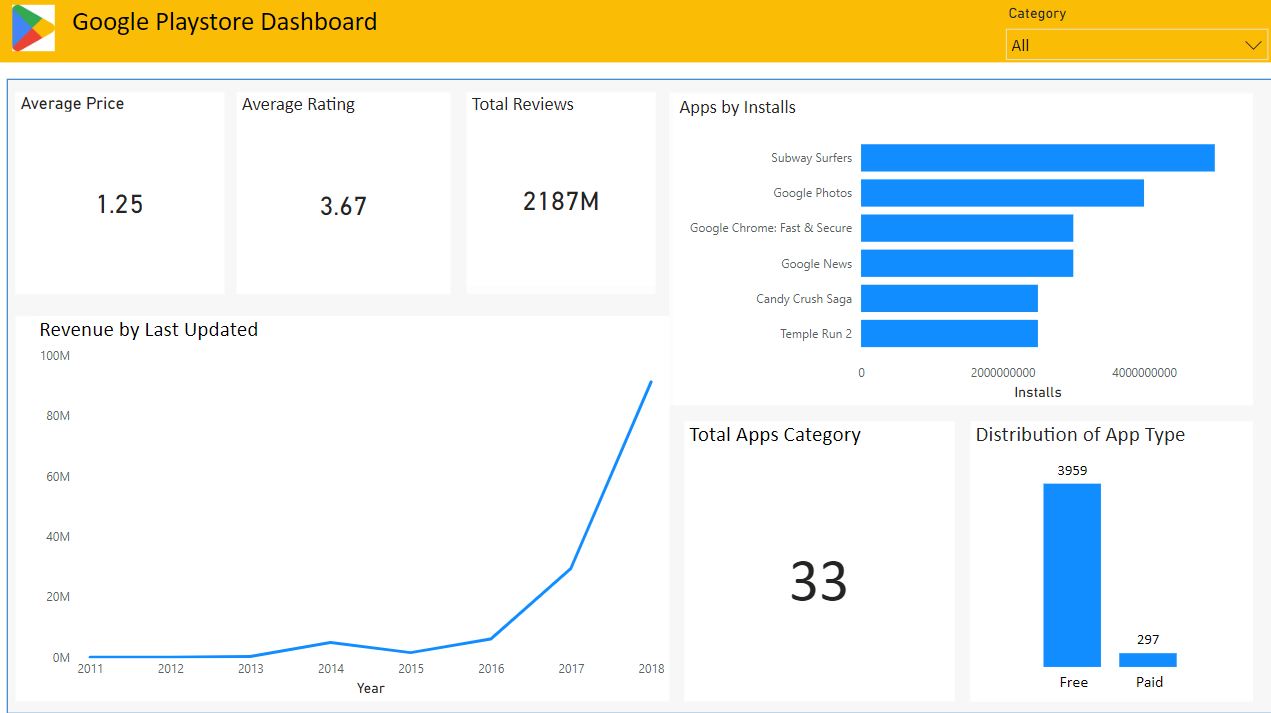

The dashboard page shown, as its layout file describes it:
{"tool":"powerbi","page":{"name":"Dashboard","canvas":[1280,720],"ordinal":0},"visuals":[{"type":"shape","box":[0,0,1280,62.5],"z":0},{"type":"shape","box":[8.8,78.8,1271.2,635],"z":1000},{"type":"textbox","box":[8.8,0,1270,56.2],"z":2000},{"type":"shape","box":[17.3,316,653.6,385.2],"z":3000},{"type":"shape","box":[671.2,92.5,583.8,312.5],"z":4000},{"type":"shape","box":[972.4,437.2,282.8,264],"z":5000},{"type":"shape","box":[688.2,421.3,268.4,279.9],"z":6000},{"type":"card","title":"Total Apps Category","fields":{"Values":["measure.Total Apps"]},"box":[686.2,421.2,270,280],"z":7000},{"type":"clusteredColumnChart","title":"Distribution of App Type","fields":{"Category":["googleplaystore.Type"],"Y":["CountNonNull(googleplaystore.Price)"]},"box":[972.4,421.3,282.8,279.9],"z":8000},{"type":"slicer","fields":{"Values":["googleplaystore.Category"]},"box":[997.5,0,282.5,62.5],"z":9000},{"type":"lineChart","title":"Revenue by Last Updated","fields":{"Category":["googleplaystore.Year"],"Y":["Sum(googleplaystore.Reve)"]},"box":[36.2,316.2,635,385],"z":10000},{"type":"shape","box":[17.5,92.5,208.8,201.2],"z":11000},{"type":"card","title":"Average Price","fields":{"Values":["measure.Average Price"]},"box":[17.5,92.5,208.8,201.2],"z":12000},{"type":"shape","box":[238.8,92.5,211.2,201.2],"z":13000},{"type":"card","title":"Average Rating","fields":{"Values":["measure.Average Rating"]},"box":[238.8,92.5,213.8,201.2],"z":14000},{"type":"shape","box":[468.8,92.5,188.8,201.2],"z":15000},{"type":"card","title":"Total Reviews","fields":{"Values":["measure.Total Installs"]},"box":[468.8,92.5,188.8,192.5],"z":16000},{"type":"barChart","title":" Apps by Installs","fields":{"Y":["Sum(googleplaystore.Installs)"],"Category":["googleplaystore.Apps"]},"box":[676.2,95,578.8,310],"z":17000},{"type":"image","box":[8.8,0,53.8,56.2],"z":18000}]}

Visuals, with their boxes in screenshot pixels (x1, y1, x2, y2), scaled from the page's 1280x720 canvas onto the 1271x713 screenshot:
shape: 0 0 1270 62
shape: 9 78 1270 707
textbox: 9 0 1270 56
shape: 17 313 666 694
shape: 666 92 1246 401
shape: 966 433 1246 694
shape: 683 417 950 694
"Total Apps Category" card: 681 417 949 694
"Distribution of App Type" clusteredColumnChart: 966 417 1246 694
slicer - googleplaystore.Category: 990 0 1270 62
"Revenue by Last Updated" lineChart: 36 313 666 694
shape: 17 92 225 291
"Average Price" card: 17 92 225 291
shape: 237 92 447 291
"Average Rating" card: 237 92 449 291
shape: 466 92 653 291
"Total Reviews" card: 466 92 653 282
" Apps by Installs" barChart: 671 94 1246 401
image: 9 0 62 56
